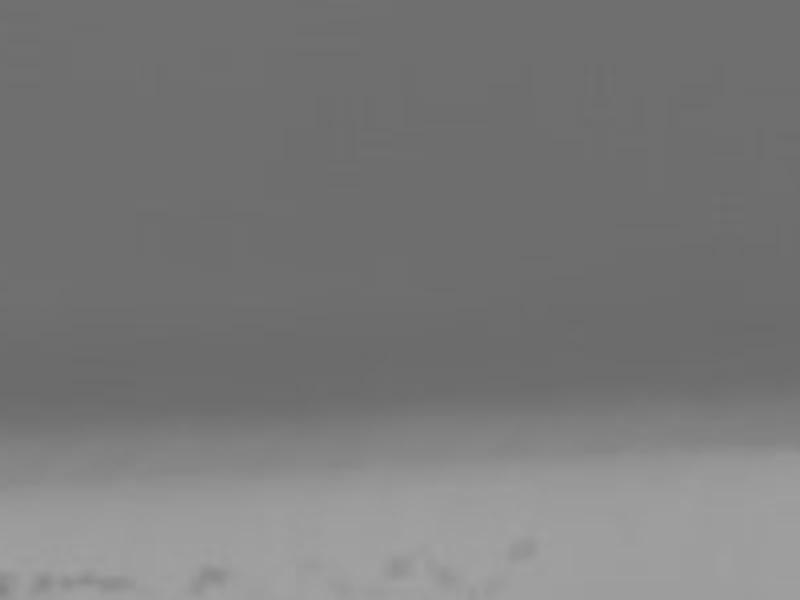defect: (190, 565, 233, 596), (420, 555, 457, 590), (316, 574, 365, 600), (377, 551, 416, 580), (508, 531, 536, 562), (27, 569, 52, 600), (95, 575, 137, 593), (1, 569, 16, 600), (81, 570, 98, 589), (57, 578, 74, 594)
